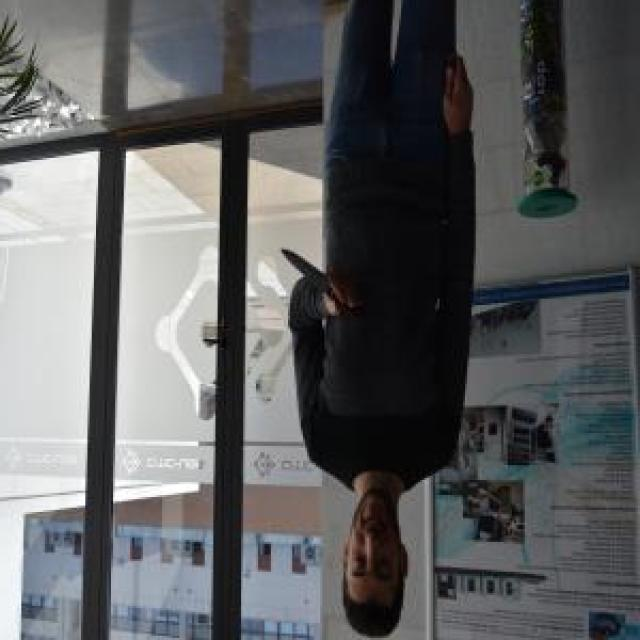knife: (277, 246, 367, 324)
